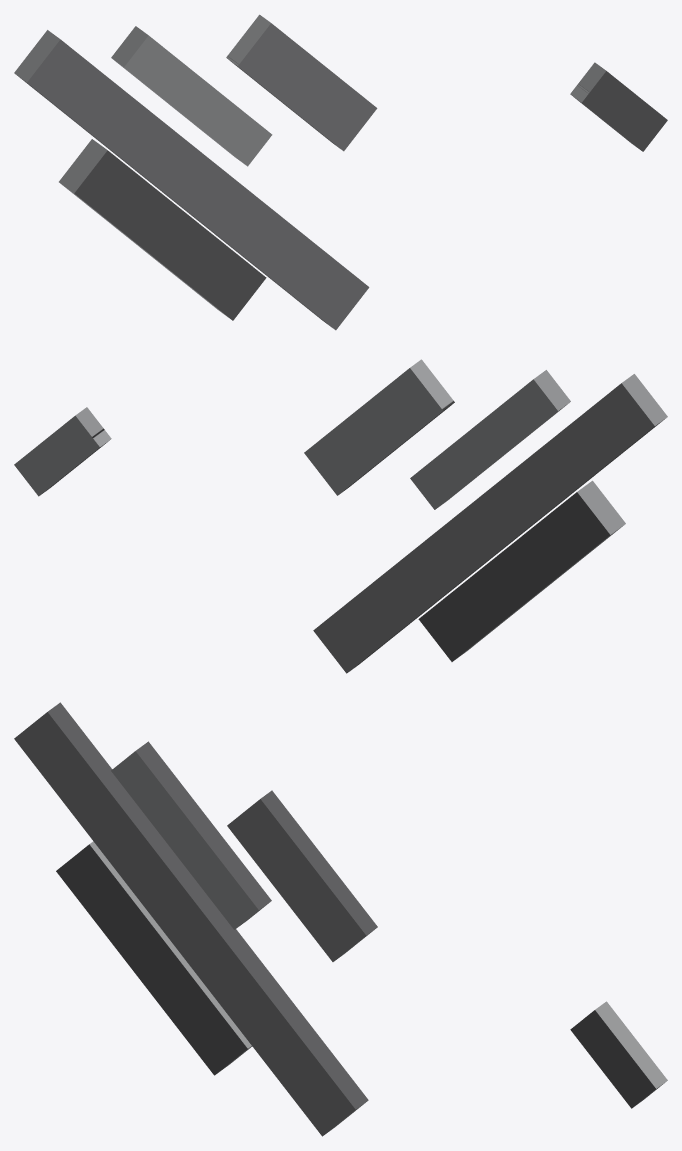
The picture shows the model from 3 angles, top to bottom: view 1: azimuth 30°, elevation 25°; view 2: azimuth 150°, elevation 25°; view 3: azimuth 330°, elevation 25°; orthographic projection.
Bounding box in the file's own units: 0.5689 × 0.3033 × 0.024.
